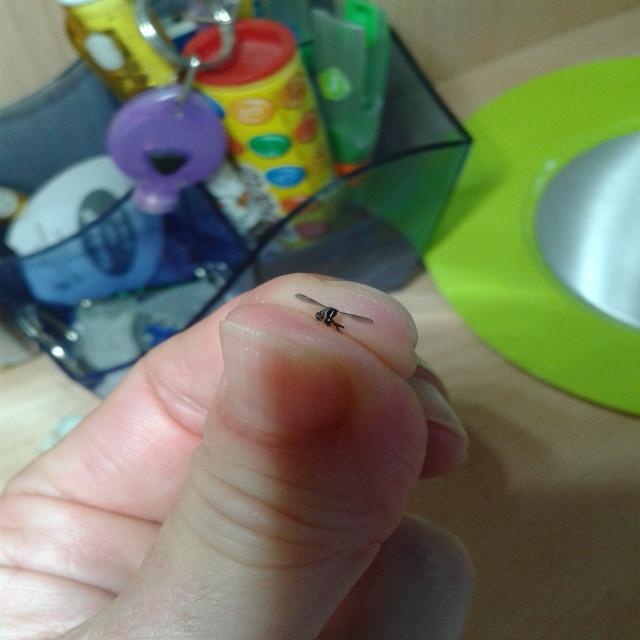albopictus: (290, 290, 374, 340)
